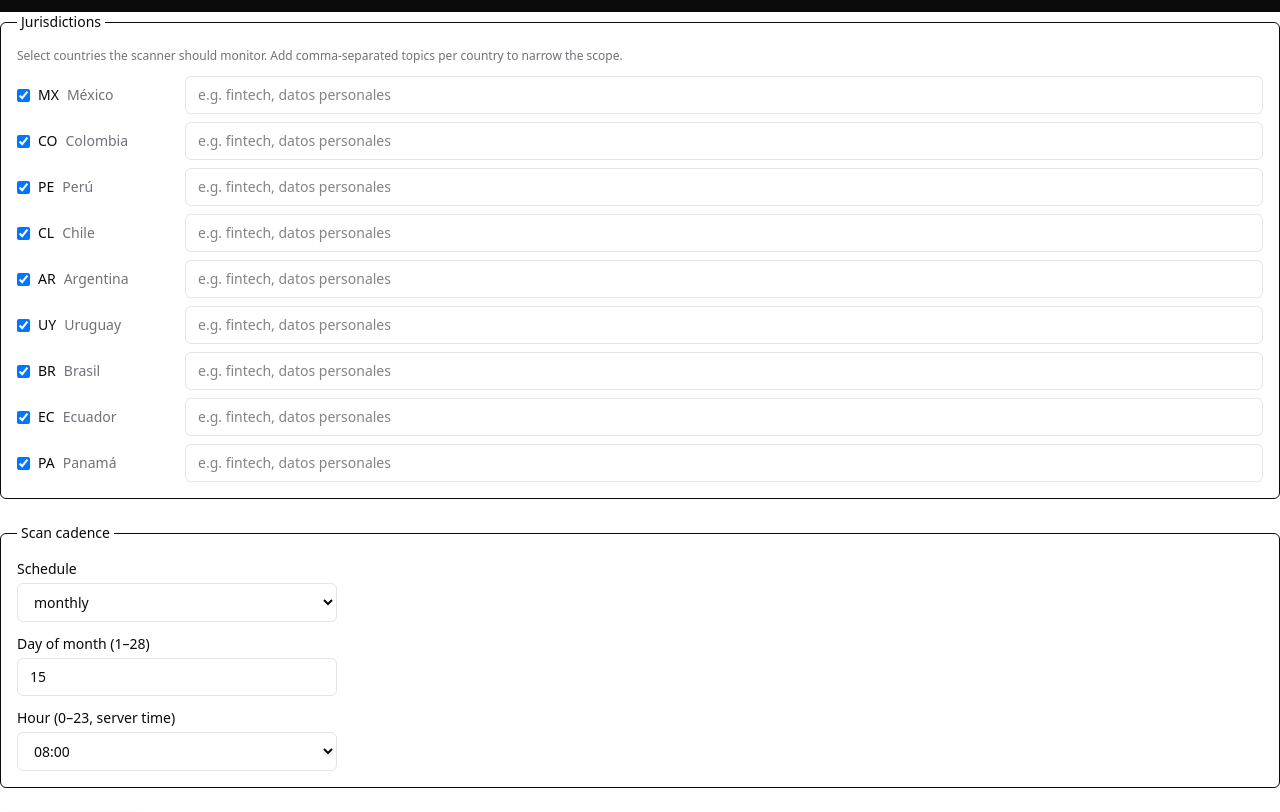
Test case: <PreferencesForm> › hides day-of-month input when switching away from monthly
Expected: the number field with test id "preferences-form-day-of-month" is shown, 17,658 -> 337,696
Select "weekly" in the dropdown with test id "preferences-form-schedule" at (177, 602), box 17,583 -> 337,622
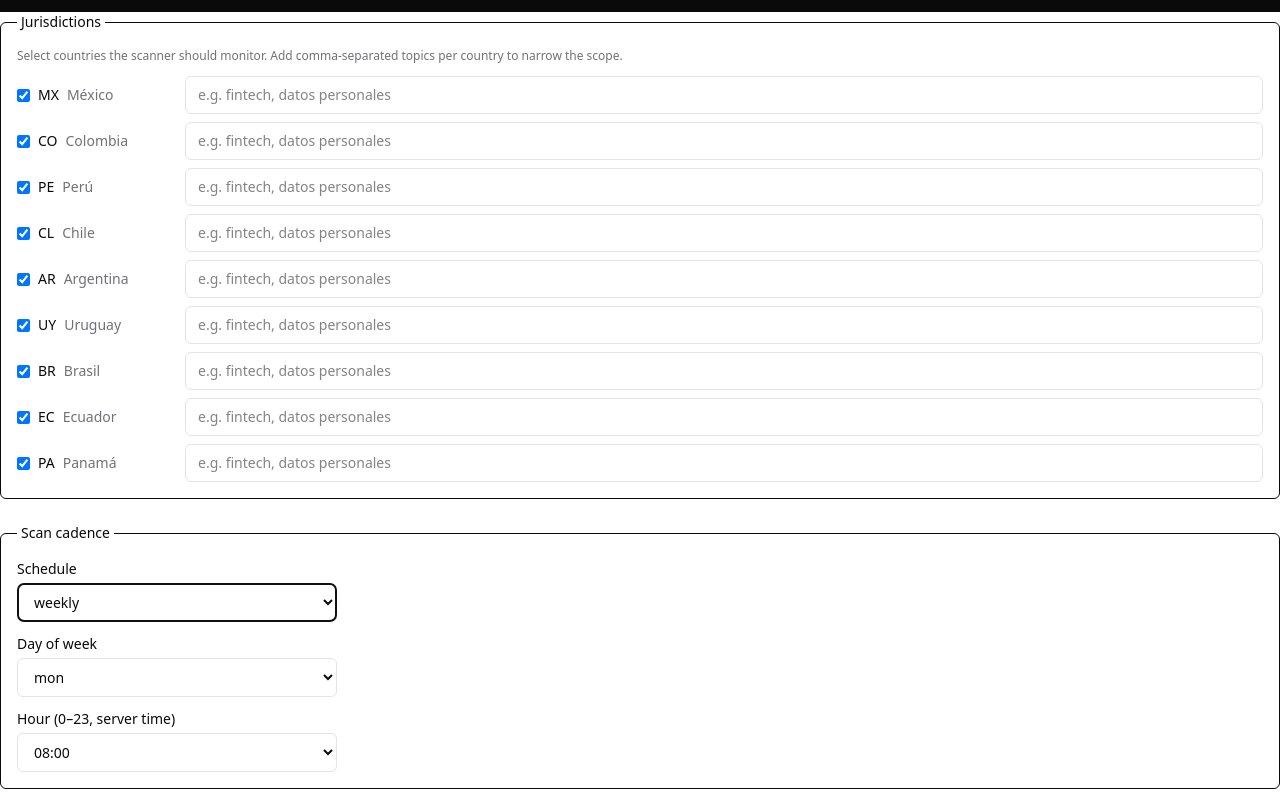
Now the label with test id "preferences-form-day-of-month" is gone
